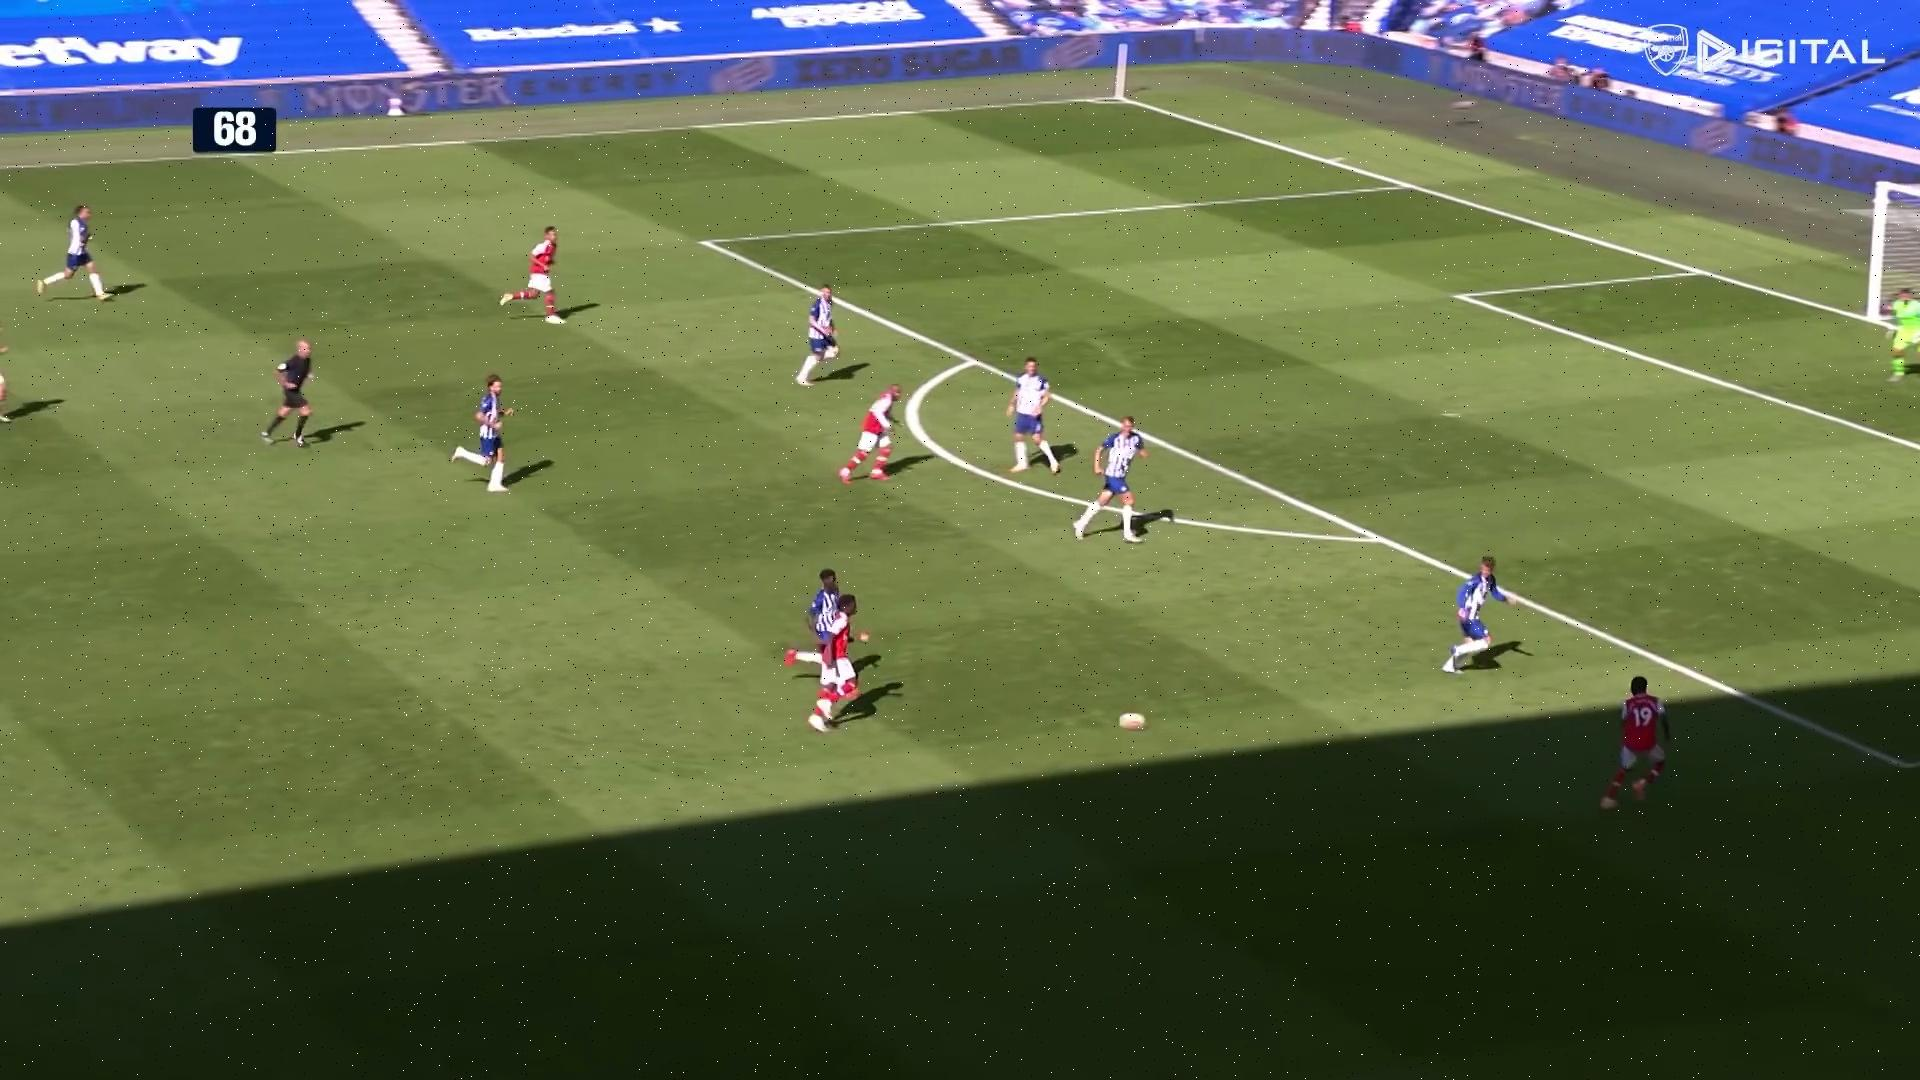ball: (1120, 712, 1149, 732)
